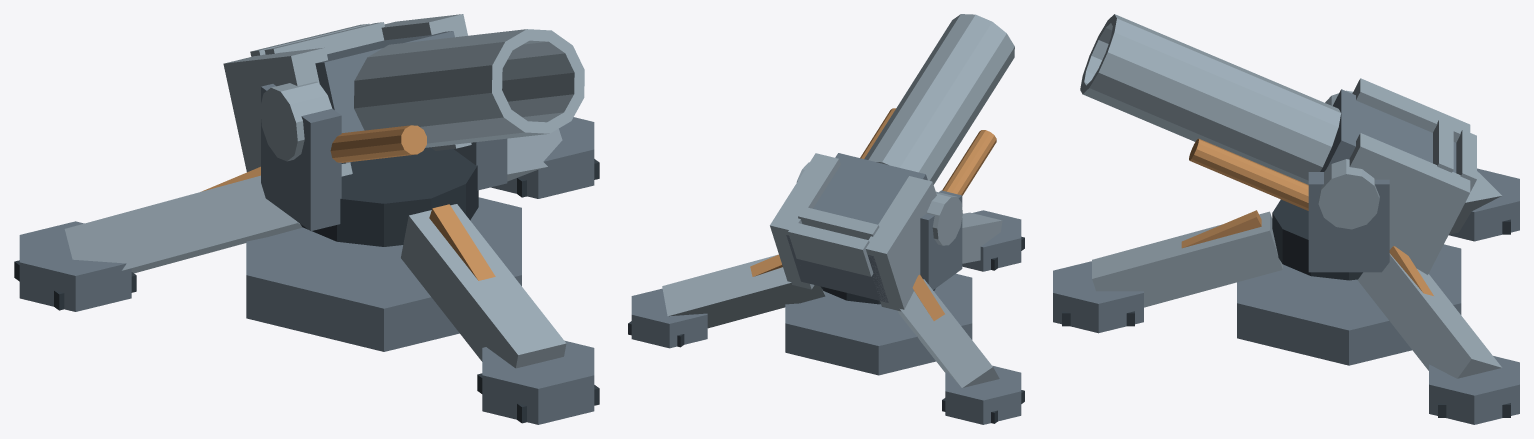
The model's file is howitzer_t1.glb.
The picture shows the model from 3 angles, left to right: view 1: azimuth 30°, elevation 25°; view 2: azimuth 150°, elevation 25°; view 3: azimuth 270°, elevation 25°; orthographic projection. The views are drawn at different scales.
Visible parts, largest first — view 1: Heavy stabilizer armor (×3), Siege barrel wall, Ground plinth, Ground shoe (×3), Bearing, Cradle (×2), Breech cheek (×2), Elevation motor, Breech, Recoil absorber, Hydraulic strut armor, Capacitor; view 2: Siege barrel wall, Heavy stabilizer armor (×3), Ground plinth, Breech cheek (×2), Ground shoe (×3), Breech, Capacitor (×2), Cradle, Recoil absorber, Elevation motor, Hydraulic strut armor (×2), Bearing; view 3: Siege barrel wall, Heavy stabilizer armor (×3), Ground plinth, Ground shoe (×3), Breech cheek (×2), Cradle, Breech, Elevation motor, Recoil absorber, Bearing, Capacitor (×2), Hydraulic strut armor (×2).
Boxes of the visible parts, <box> form: Heavy stabilizer armor (×3): <box>64,128,566,368</box>; Siege barrel wall: <box>354,29,584,147</box>; Ground plinth: <box>246,197,521,351</box>; Ground shoe (×3): <box>19,117,594,424</box>; Bearing: <box>300,147,478,246</box>; Cradle (×2): <box>261,84,507,230</box>; Breech cheek (×2): <box>223,14,471,176</box>; Elevation motor: <box>260,81,332,161</box>; Breech: <box>315,31,454,163</box>; Recoil absorber: <box>330,125,426,162</box>; Hydraulic strut armor: <box>429,204,495,280</box>; Capacitor: <box>264,22,384,54</box>; Siege barrel wall: <box>864,14,1014,184</box>; Heavy stabilizer armor (×3): <box>662,212,1002,387</box>; Ground plinth: <box>785,273,972,375</box>; Breech cheek (×2): <box>770,153,936,311</box>; Ground shoe (×3): <box>631,210,1021,424</box>; Breech: <box>786,153,927,302</box>; Capacitor (×2): <box>788,206,879,276</box>; Cradle: <box>920,190,962,289</box>; Recoil absorber: <box>942,130,996,195</box>; Elevation motor: <box>926,191,962,245</box>; Hydraulic strut armor (×2): <box>750,254,944,320</box>; Bearing: <box>820,286,935,304</box>; Siege barrel wall: <box>1080,14,1340,184</box>; Heavy stabilizer armor (×3): <box>1092,171,1501,378</box>; Ground plinth: <box>1237,244,1461,365</box>; Ground shoe (×3): <box>1053,168,1519,424</box>; Breech cheek (×2): <box>1349,78,1470,274</box>; Cradle: <box>1308,172,1389,272</box>; Breech: <box>1320,89,1456,172</box>; Elevation motor: <box>1318,159,1379,229</box>; Recoil absorber: <box>1189,138,1308,210</box>; Bearing: <box>1272,199,1362,280</box>; Capacitor (×2): <box>1433,119,1476,191</box>; Hydraulic strut armor (×2): <box>1181,210,1433,295</box>.
Size of the model in its own units: 3.33 by 2.03 by 2.89.
